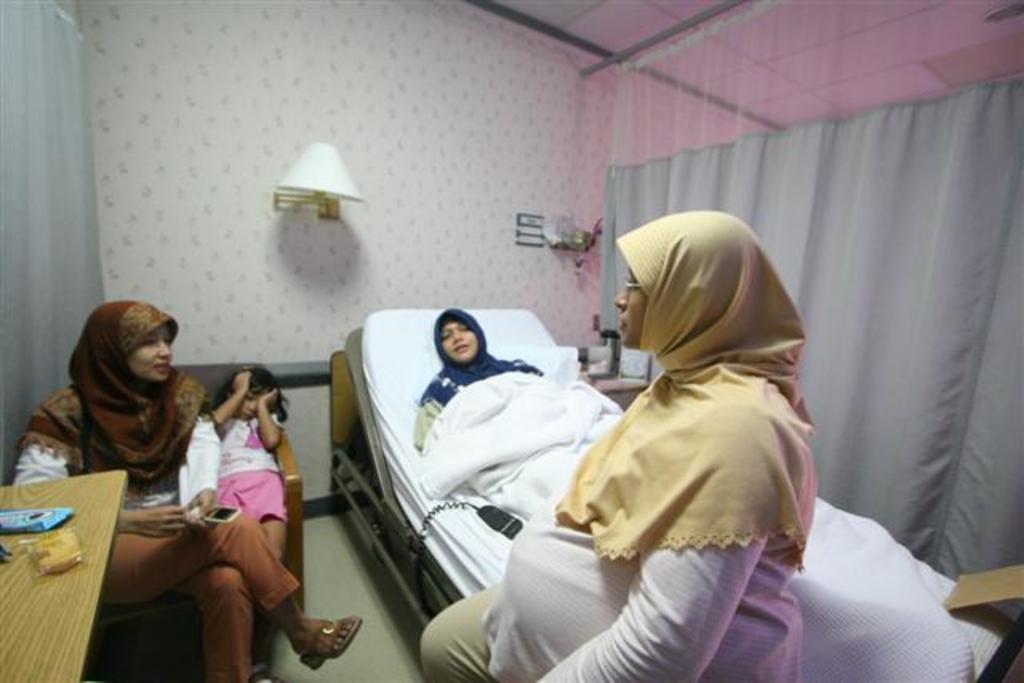face: (610, 252, 685, 343)
